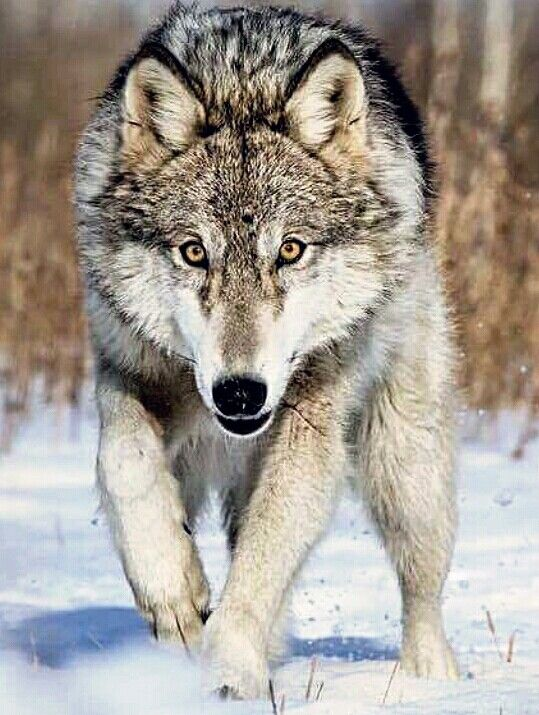Lobo: (65, 6, 494, 687)
